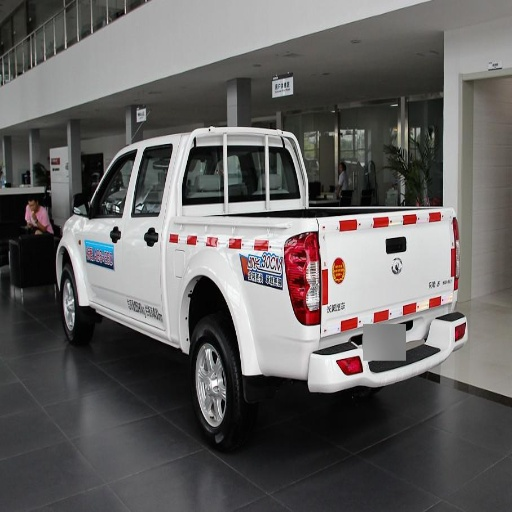back_left_door: (128, 150, 171, 266)
back_left_light: (274, 238, 320, 323)
back_right_door: (190, 145, 274, 198)
trunk: (137, 211, 453, 362)
